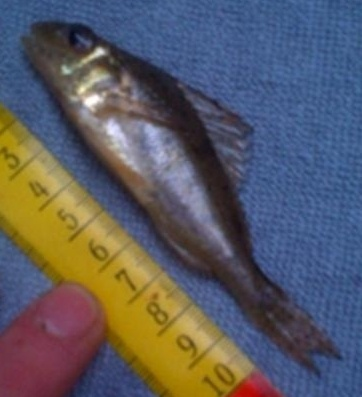Gymnocephalus cernuus: (20, 20, 342, 377)
